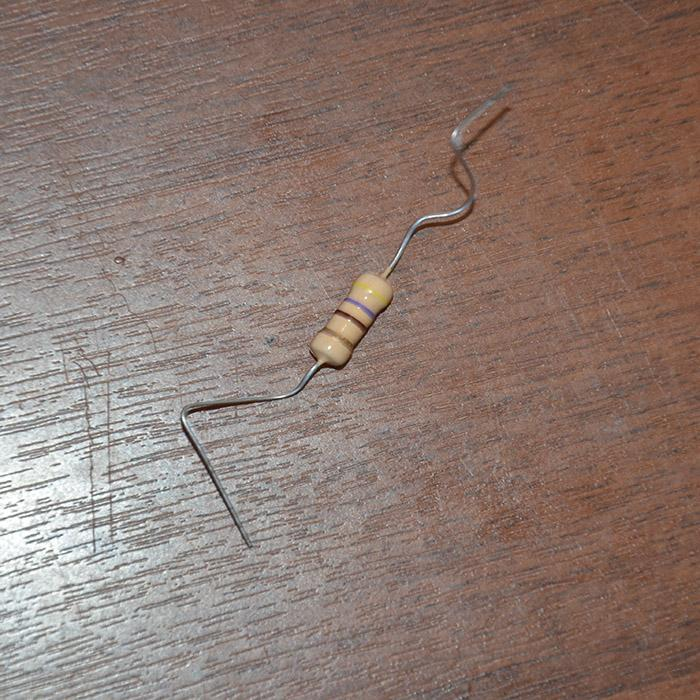resistor: (311, 272, 394, 368)
